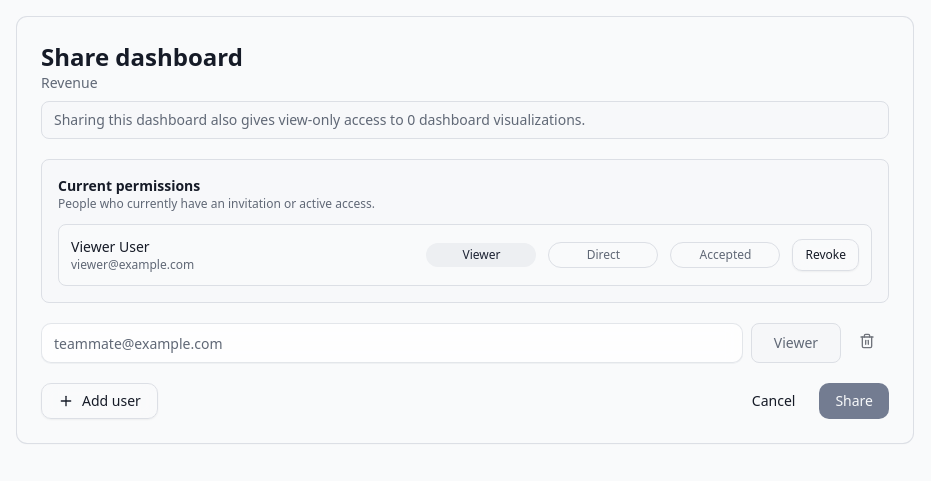
Scenario: ShareFormClient › blocks sharing a user who already has active access
Type "VIEWER@example.com" into the field named "Email 1".
click(392, 343); type("VIEWER@example.com")  # box top-left (41, 323), bottom-right (743, 363)
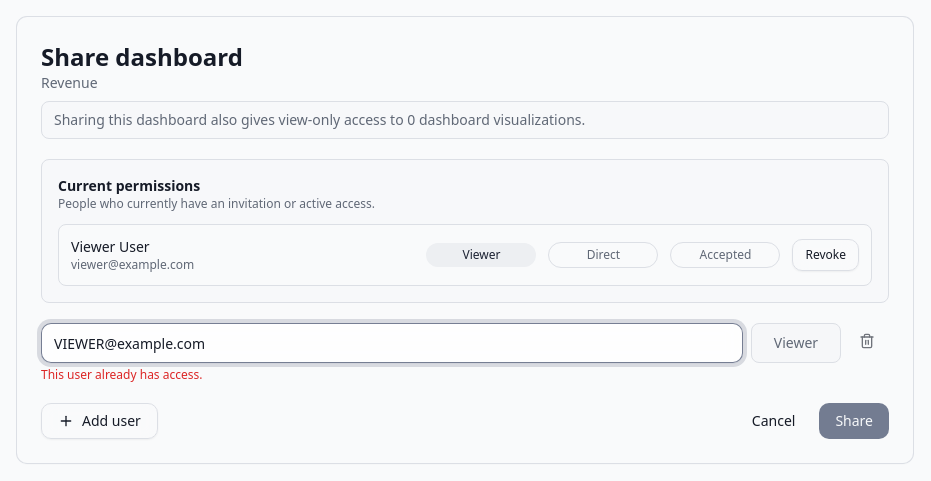
Expected: the button "Share" is disabled, top-left (819, 403), bottom-right (889, 439)
Expected: the text "This user already has access." is shown, top-left (41, 366), bottom-right (202, 383)
